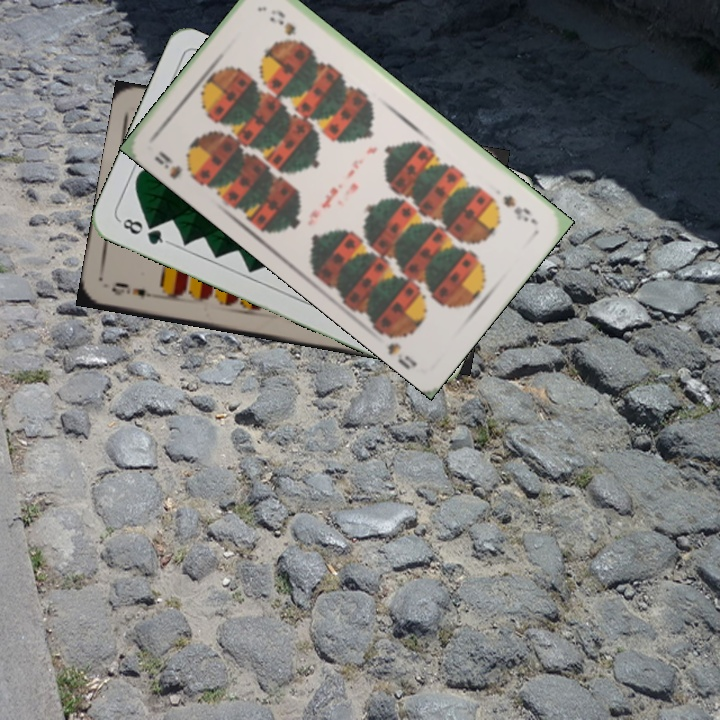E9: (107, 278, 163, 301)
G8: (115, 214, 172, 247)
S9: (150, 147, 200, 185), (499, 191, 534, 225)
